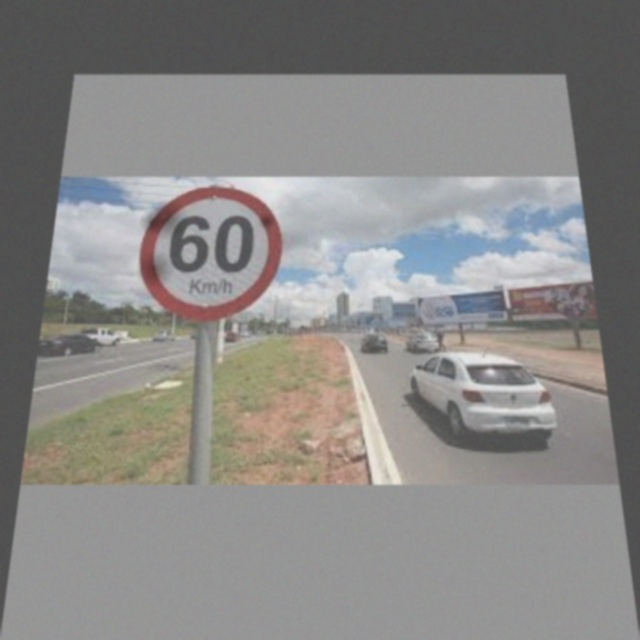Speed_Limit_60: (136, 183, 279, 320)
